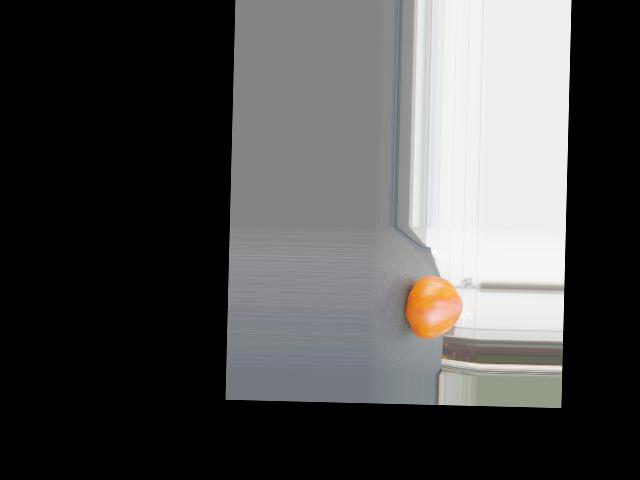tomato: (405, 275, 463, 339)
